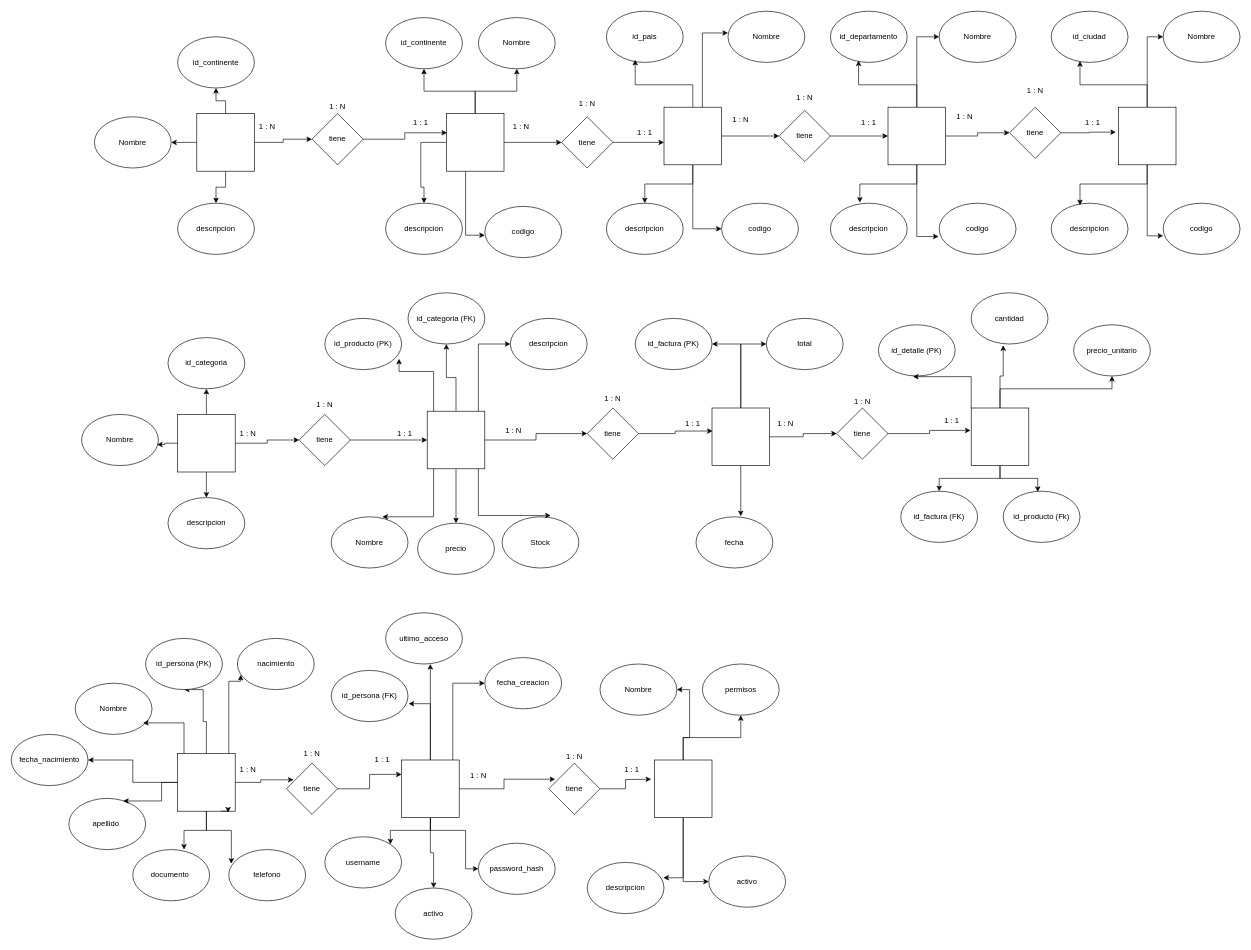
The diagram is 1251 pixels wide and 950 high, and some of its shapes have lost their labels. Here are the shapes that lost their labels. From the top down, the centre of each, then its label:
pixel 225 142: Continente
pixel 475 142: Pais
pixel 692 136: departamento
pixel 916 136: ciudad
pixel 1147 136: barrio
pixel 206 443: categoria
pixel 456 440: producto
pixel 740 436: factura
pixel 1000 436: detalle_factura
pixel 206 782: persona
pixel 430 788: usuario
pixel 683 788: rol
